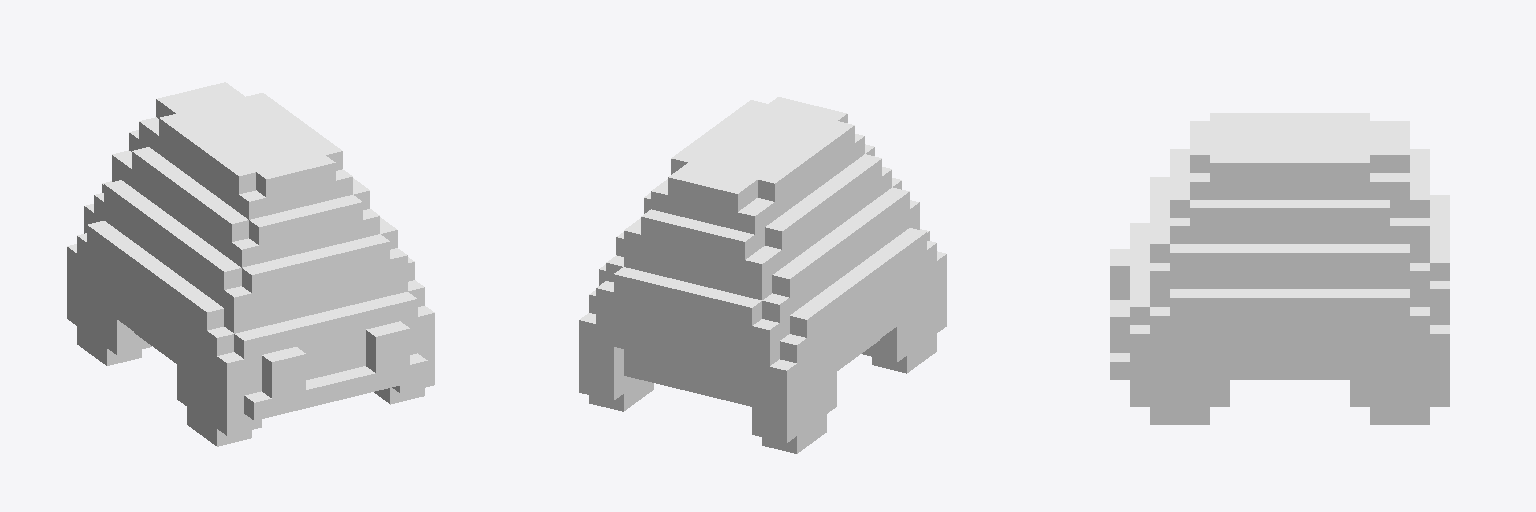
The model's file is car01.obj.
3 views of the same model, side by side, from view 1: azimuth 30°, elevation 25°; view 2: azimuth 150°, elevation 25°; view 3: azimuth 270°, elevation 25° (orthographic).
Visible parts, largest first — view 1: object 1; view 2: object 1; view 3: object 1.
Part boxes in pixels (x1,y1,x2,y2): object 1: (67,82,434,446); object 1: (579,97,946,453); object 1: (1110,113,1449,424).
Size of the model in its own units: 1.2 by 1.3 by 1.7.